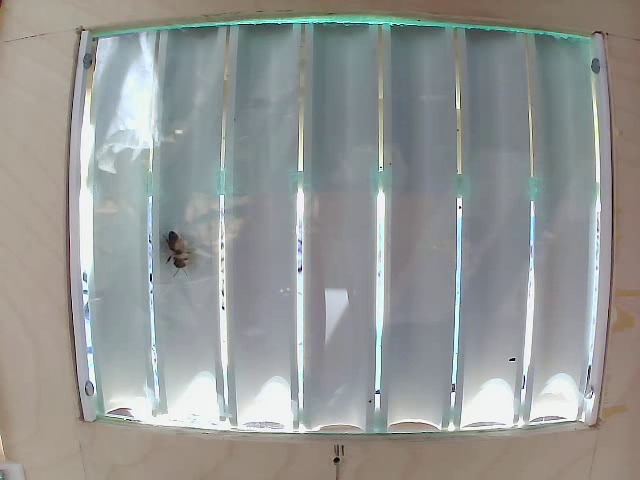bee: (161, 228, 197, 269)
